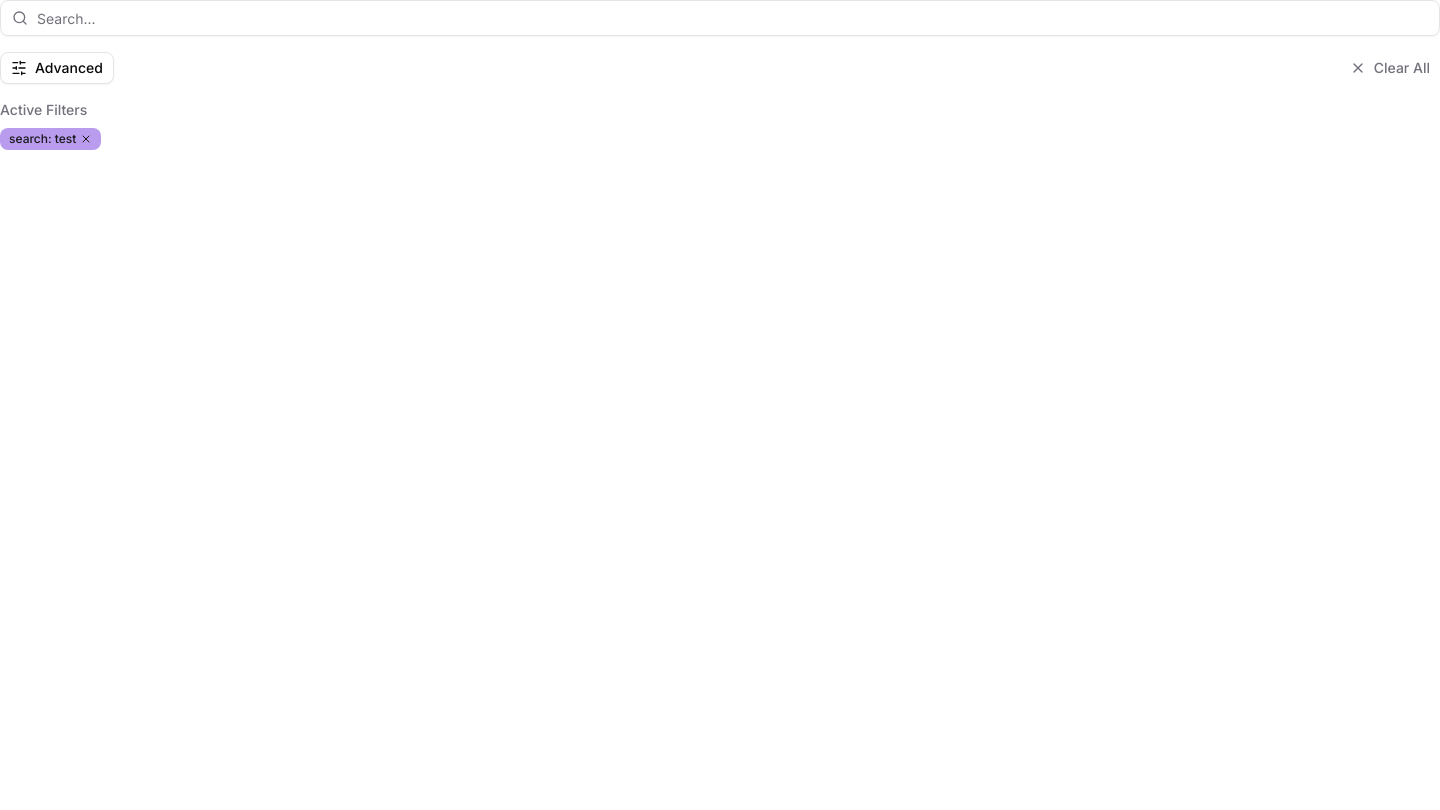
FilterControls › renders custom filter options
This screenshot has width=1440, height=810.
Click the button "Advanced": (57, 68) 0,52 -> 114,84
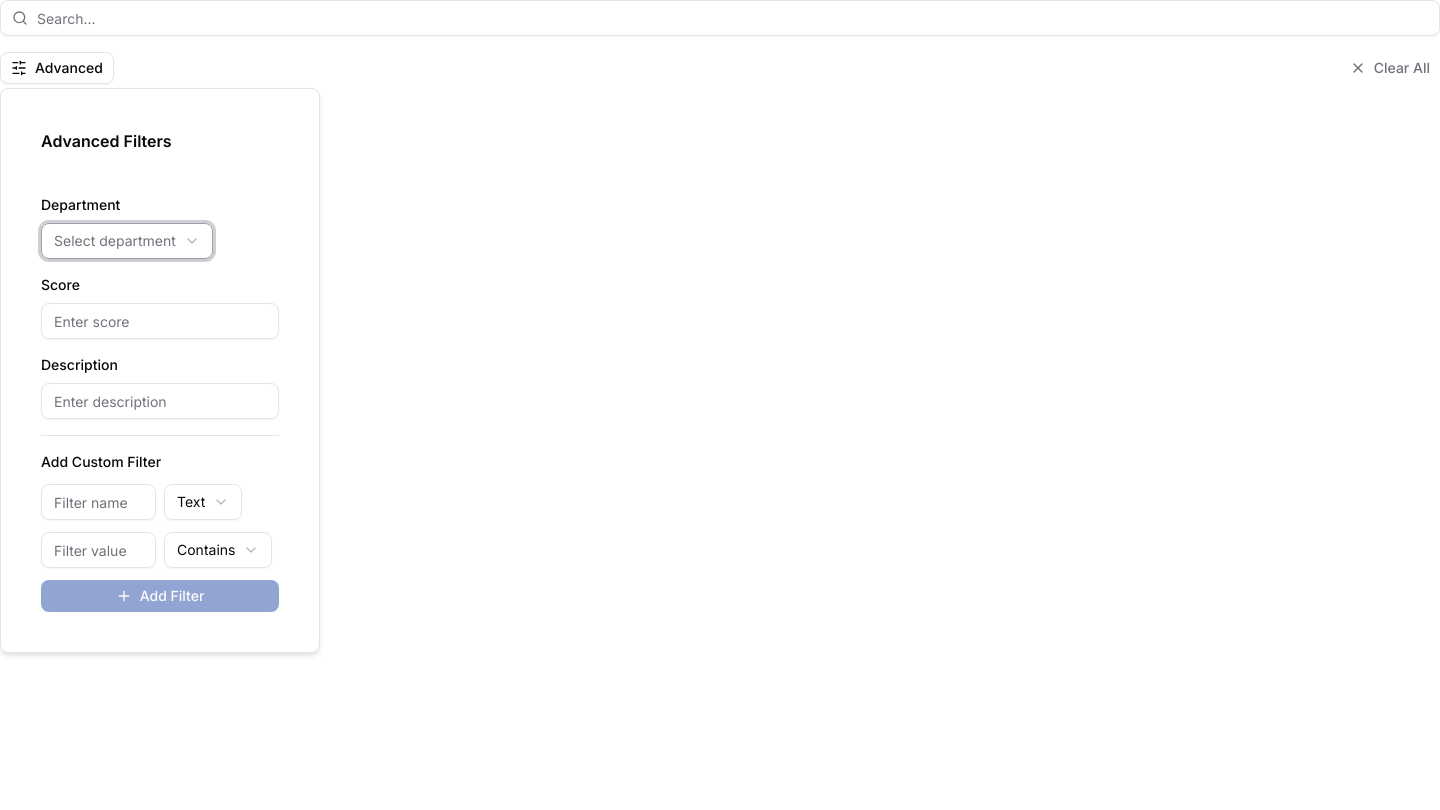
Expected: the text "Department" is shown, 41,196 -> 120,213
Expected: the text "Score" is shown, 41,276 -> 80,293
Expected: the text "Description" is shown, 41,356 -> 118,373
